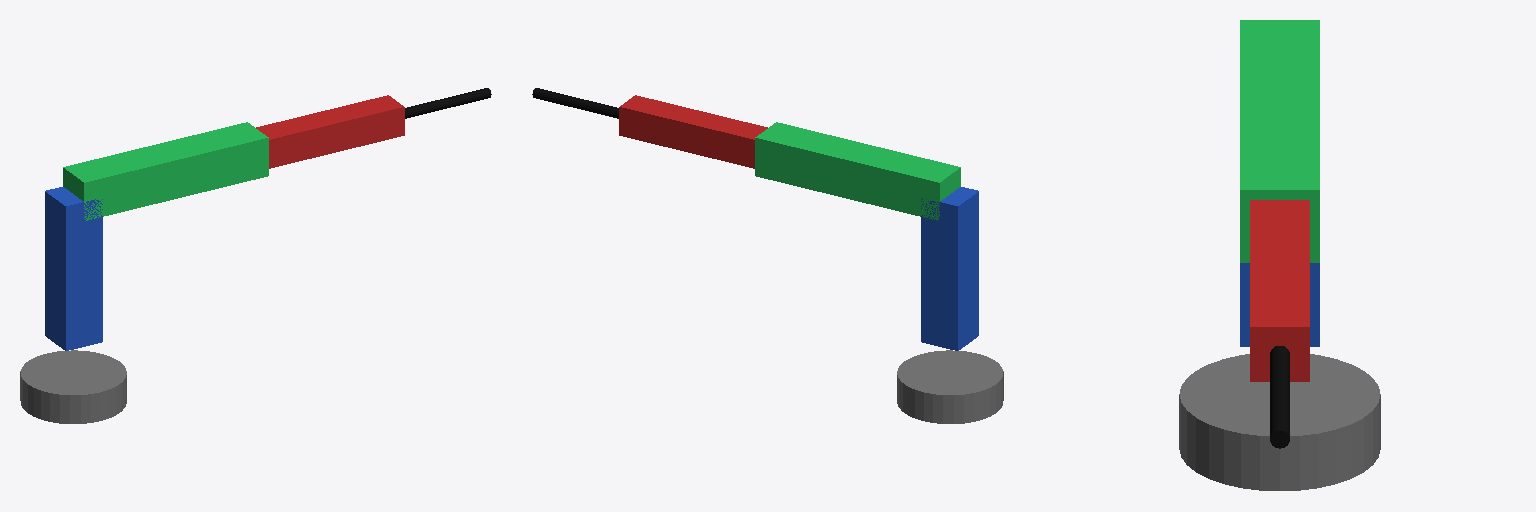
URDF robot description (writing_arm):
<?xml version="1.0"?>
<robot name="writing_arm">
  
  <!-- Base Link (fixed to table) -->
  <link name="base_link">
    <visual>
      <geometry>
        <cylinder radius="0.05" length="0.03"/>
      </geometry>
      <material name="gray">
        <color rgba="0.5 0.5 0.5 1"/>
      </material>
    </visual>
  </link>

  <!-- Joint 1: Base rotation (XL430) -->
  <joint name="joint_1" type="revolute">
    <parent link="base_link"/>
    <child link="link_1"/>
    <origin xyz="0 0 0.05" rpy="0 0 0"/>
    <axis xyz="0 0 1"/>  <!-- Rotates around Z axis -->
    <limit lower="-3.14159" upper="3.14159" effort="1.0" velocity="2.0"/>
  </joint>

  <!-- Link 1: First arm segment -->
  <link name="link_1">
    <visual>
      <origin xyz="0 0 0.075" rpy="0 0 0"/>
      <geometry>
        <box size="0.04 0.04 0.15"/>  <!-- Adjust length: 15cm -->
      </geometry>
      <material name="blue">
        <color rgba="0.2 0.4 0.8 1"/>
      </material>
    </visual>
  </link>

  <!-- Joint 2: Shoulder (XL-330) -->
  <joint name="joint_2" type="revolute">
    <parent link="link_1"/>
    <child link="link_2"/>
    <origin xyz="0 0 0.15" rpy="0 0 0"/>
    <axis xyz="0 1 0"/>  <!-- Rotates around Y axis (pitch) -->
    <limit lower="-1.57" upper="1.57" effort="1.0" velocity="2.0"/>
  </joint>

  <!-- Link 2: Second arm segment -->
  <link name="link_2">
    <visual>
      <origin xyz="0.1 0 0" rpy="0 1.57 0"/>
      <geometry>
        <box size="0.04 0.04 0.20"/>  <!-- Adjust length: 20cm -->
      </geometry>
      <material name="green">
        <color rgba="0.2 0.8 0.4 1"/>
      </material>
    </visual>
  </link>

  <!-- Joint 3: Elbow (XL-330) -->
  <joint name="joint_3" type="revolute">
    <parent link="link_2"/>
    <child link="link_3"/>
    <origin xyz="0.20 0 0" rpy="0 0 0"/>
    <axis xyz="0 1 0"/>  <!-- Rotates around Y axis (pitch) -->
    <limit lower="-1.57" upper="1.57" effort="1.0" velocity="2.0"/>
  </joint>

  <!-- Link 3: Third arm segment -->
  <link name="link_3">
    <visual>
      <origin xyz="0.075 0 0" rpy="0 1.57 0"/>
      <geometry>
        <box size="0.03 0.03 0.15"/>  <!-- Adjust length: 15cm -->
      </geometry>
      <material name="red">
        <color rgba="0.8 0.2 0.2 1"/>
      </material>
    </visual>
  </link>

  <!-- Joint 4: Wrist (XL-330) -->
  <joint name="joint_4" type="revolute">
    <parent link="link_3"/>
    <child link="pen_link"/>
    <origin xyz="0.15 0 0" rpy="0 0 0"/>
    <axis xyz="0 1 0"/>  <!-- Rotates around Y axis (pitch) -->
    <limit lower="-1.57" upper="1.57" effort="1.0" velocity="2.0"/>
  </joint>

  <!-- Pen/End Effector Link -->
  <link name="pen_link">
    <visual>
      <origin xyz="0.05 0 0" rpy="0 1.57 0"/>
      <geometry>
        <cylinder radius="0.005" length="0.10"/>  <!-- Pen -->
      </geometry>
      <material name="black">
        <color rgba="0.1 0.1 0.1 1"/>
      </material>
    </visual>
  </link>

  <!-- Tool Center Point (TCP) - the pen tip -->
  <link name="pen_tip"/>
  <joint name="pen_tip_joint" type="fixed">
    <parent link="pen_link"/>
    <child link="pen_tip"/>
    <origin xyz="0.10 0 0" rpy="0 0 0"/>
  </joint>

</robot>

--- Render facts (derived) ---
Views: 3 orthographic renders of the robot side by side, from view 1: azimuth 30°, elevation 25°; view 2: azimuth 150°, elevation 25°; view 3: azimuth 270°, elevation 25°.
Robot: writing_arm — 6 links, 5 joints (4 revolute, 1 fixed); root link base_link; default pose: all joints at 0.
Links seen in each view (by area): view 1: link_2, link_1, base_link, link_3, pen_link; view 2: link_2, link_1, base_link, link_3, pen_link; view 3: base_link, link_2, link_3, pen_link, link_1.
Link boxes in pixels (x1=…): link_2: x1=63, y1=122, x2=268, y2=220; link_1: x1=45, y1=187, x2=102, y2=350; base_link: x1=20, y1=350, x2=126, y2=423; link_3: x1=256, y1=95, x2=404, y2=168; pen_link: x1=405, y1=88, x2=491, y2=118; link_2: x1=755, y1=122, x2=960, y2=220; link_1: x1=921, y1=187, x2=978, y2=350; base_link: x1=897, y1=350, x2=1003, y2=423; link_3: x1=619, y1=95, x2=767, y2=168; pen_link: x1=532, y1=88, x2=618, y2=118; base_link: x1=1179, y1=354, x2=1380, y2=490; link_2: x1=1240, y1=20, x2=1319, y2=262; link_3: x1=1250, y1=200, x2=1309, y2=381; pen_link: x1=1270, y1=346, x2=1289, y2=448; link_1: x1=1240, y1=263, x2=1319, y2=346.
Size in the robot's own frame: 0.5 by 0.1 by 0.2351 metres.
Geometry: primitives only (box / cylinder / sphere), no mesh files.